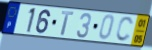0: (97, 14, 115, 42)
1: (25, 7, 37, 34)
3: (76, 12, 92, 39)
6: (35, 9, 51, 35)
C: (115, 16, 135, 43)
T: (60, 11, 75, 37)
